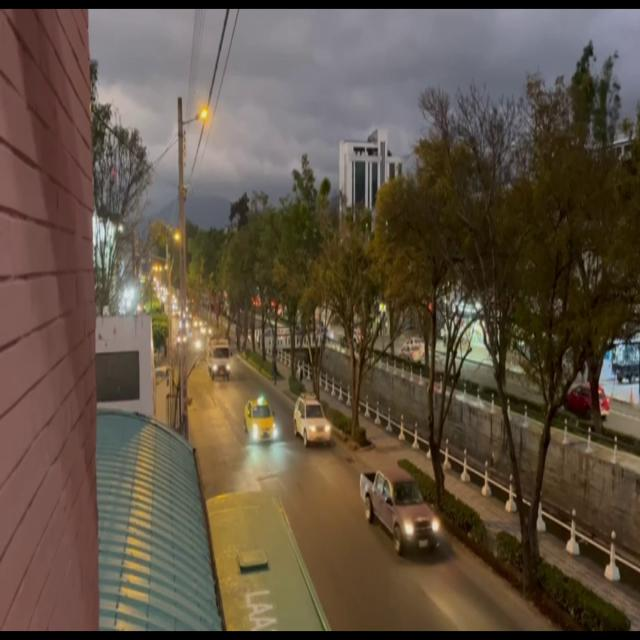CMT: (362, 471, 440, 552)
SED: (246, 404, 276, 441)
SUV: (296, 397, 332, 444)
TRUCK: (208, 338, 229, 382)
